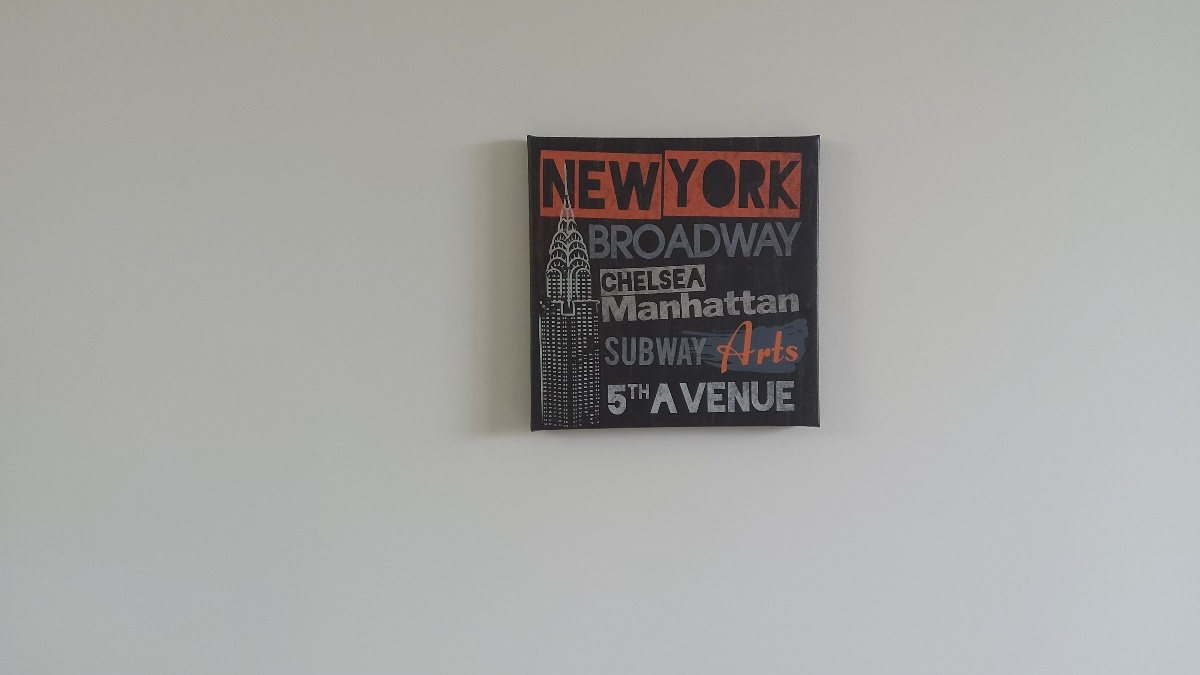poster: (518, 128, 829, 435)
